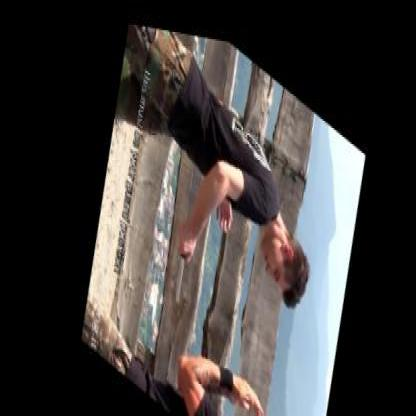knife: (158, 209, 200, 308)
